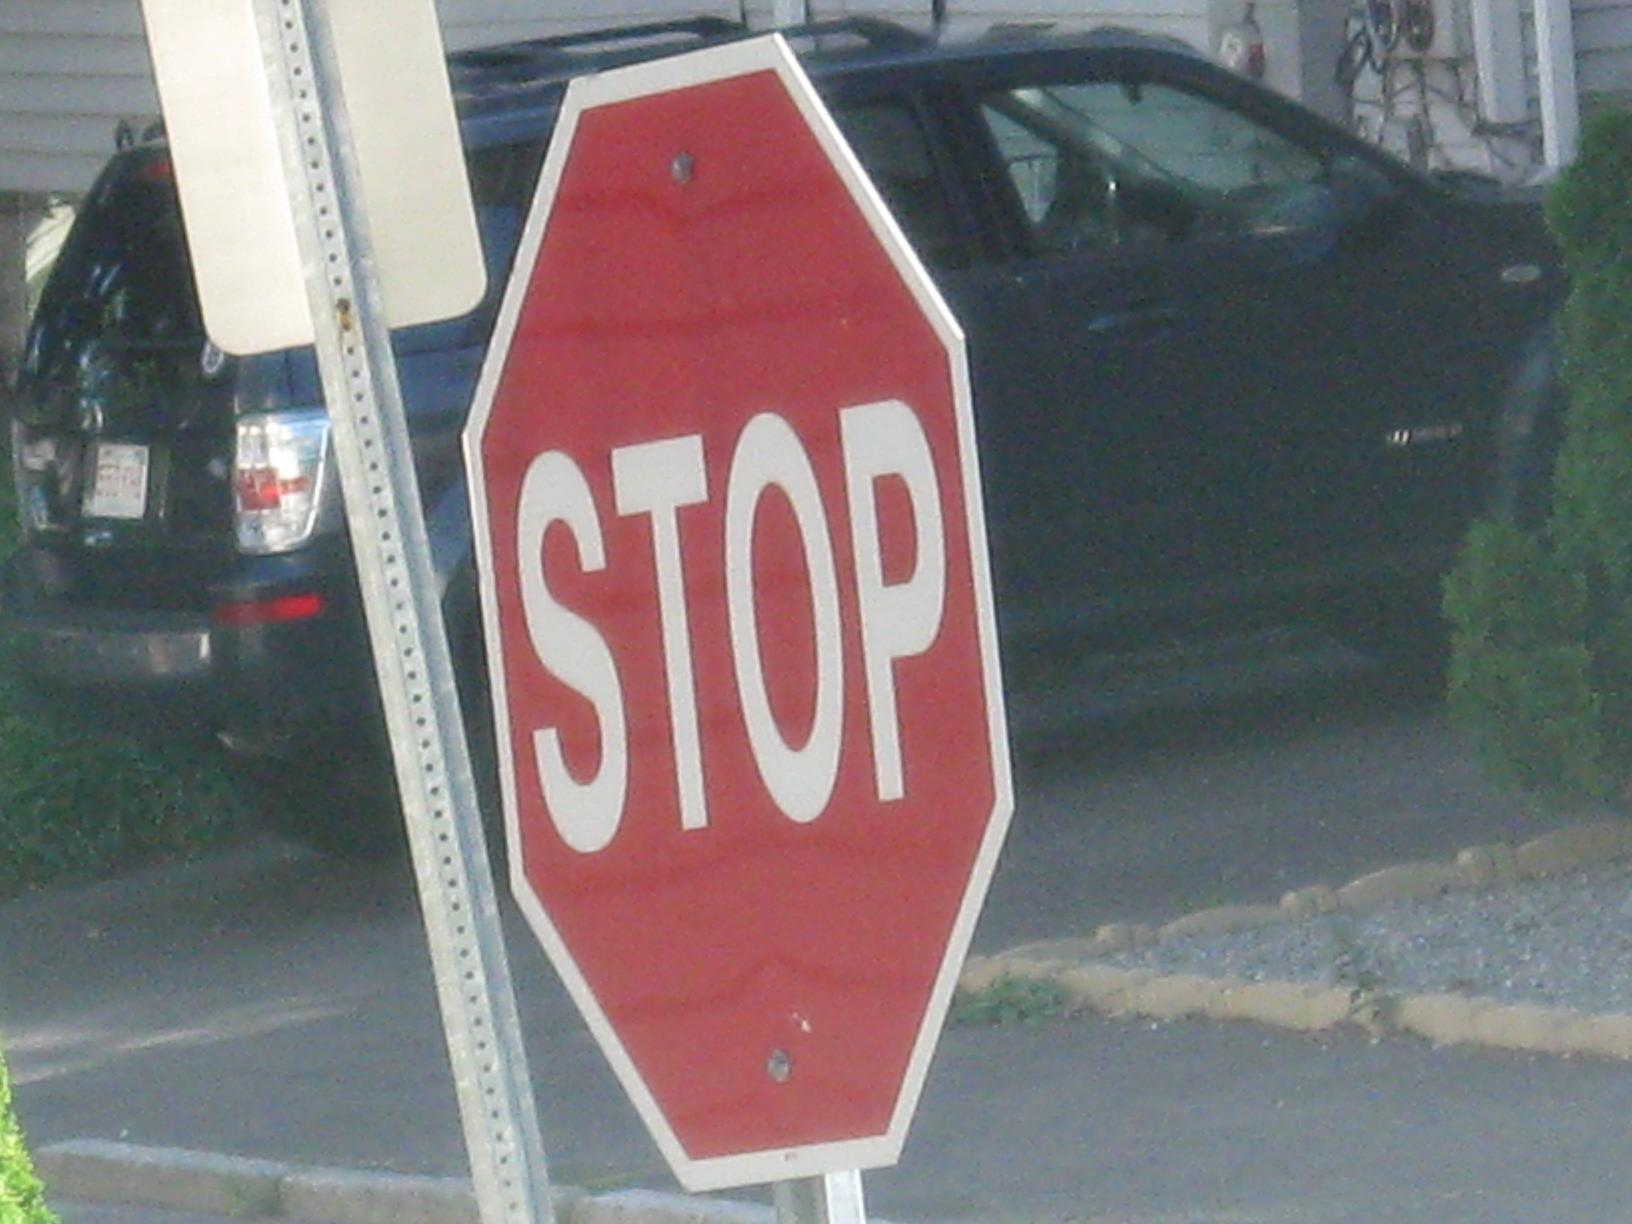car: (12, 33, 1555, 815)
stop: (493, 69, 1013, 1174)
